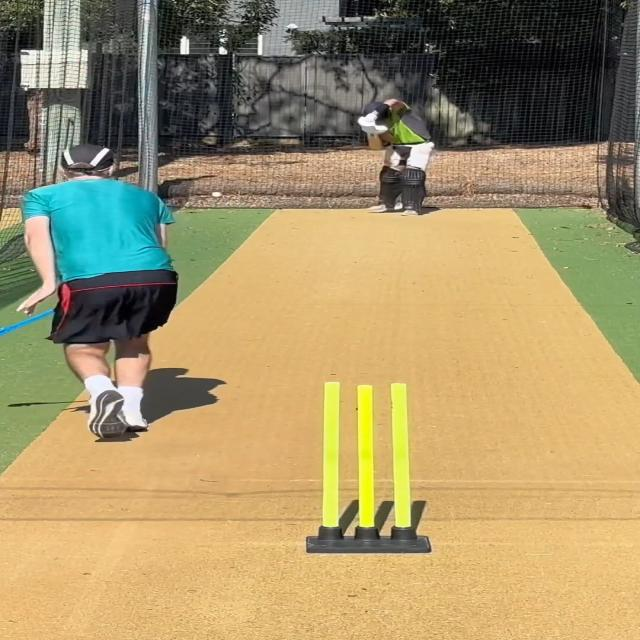ball: (212, 190, 222, 198)
stump: (305, 380, 429, 552)
